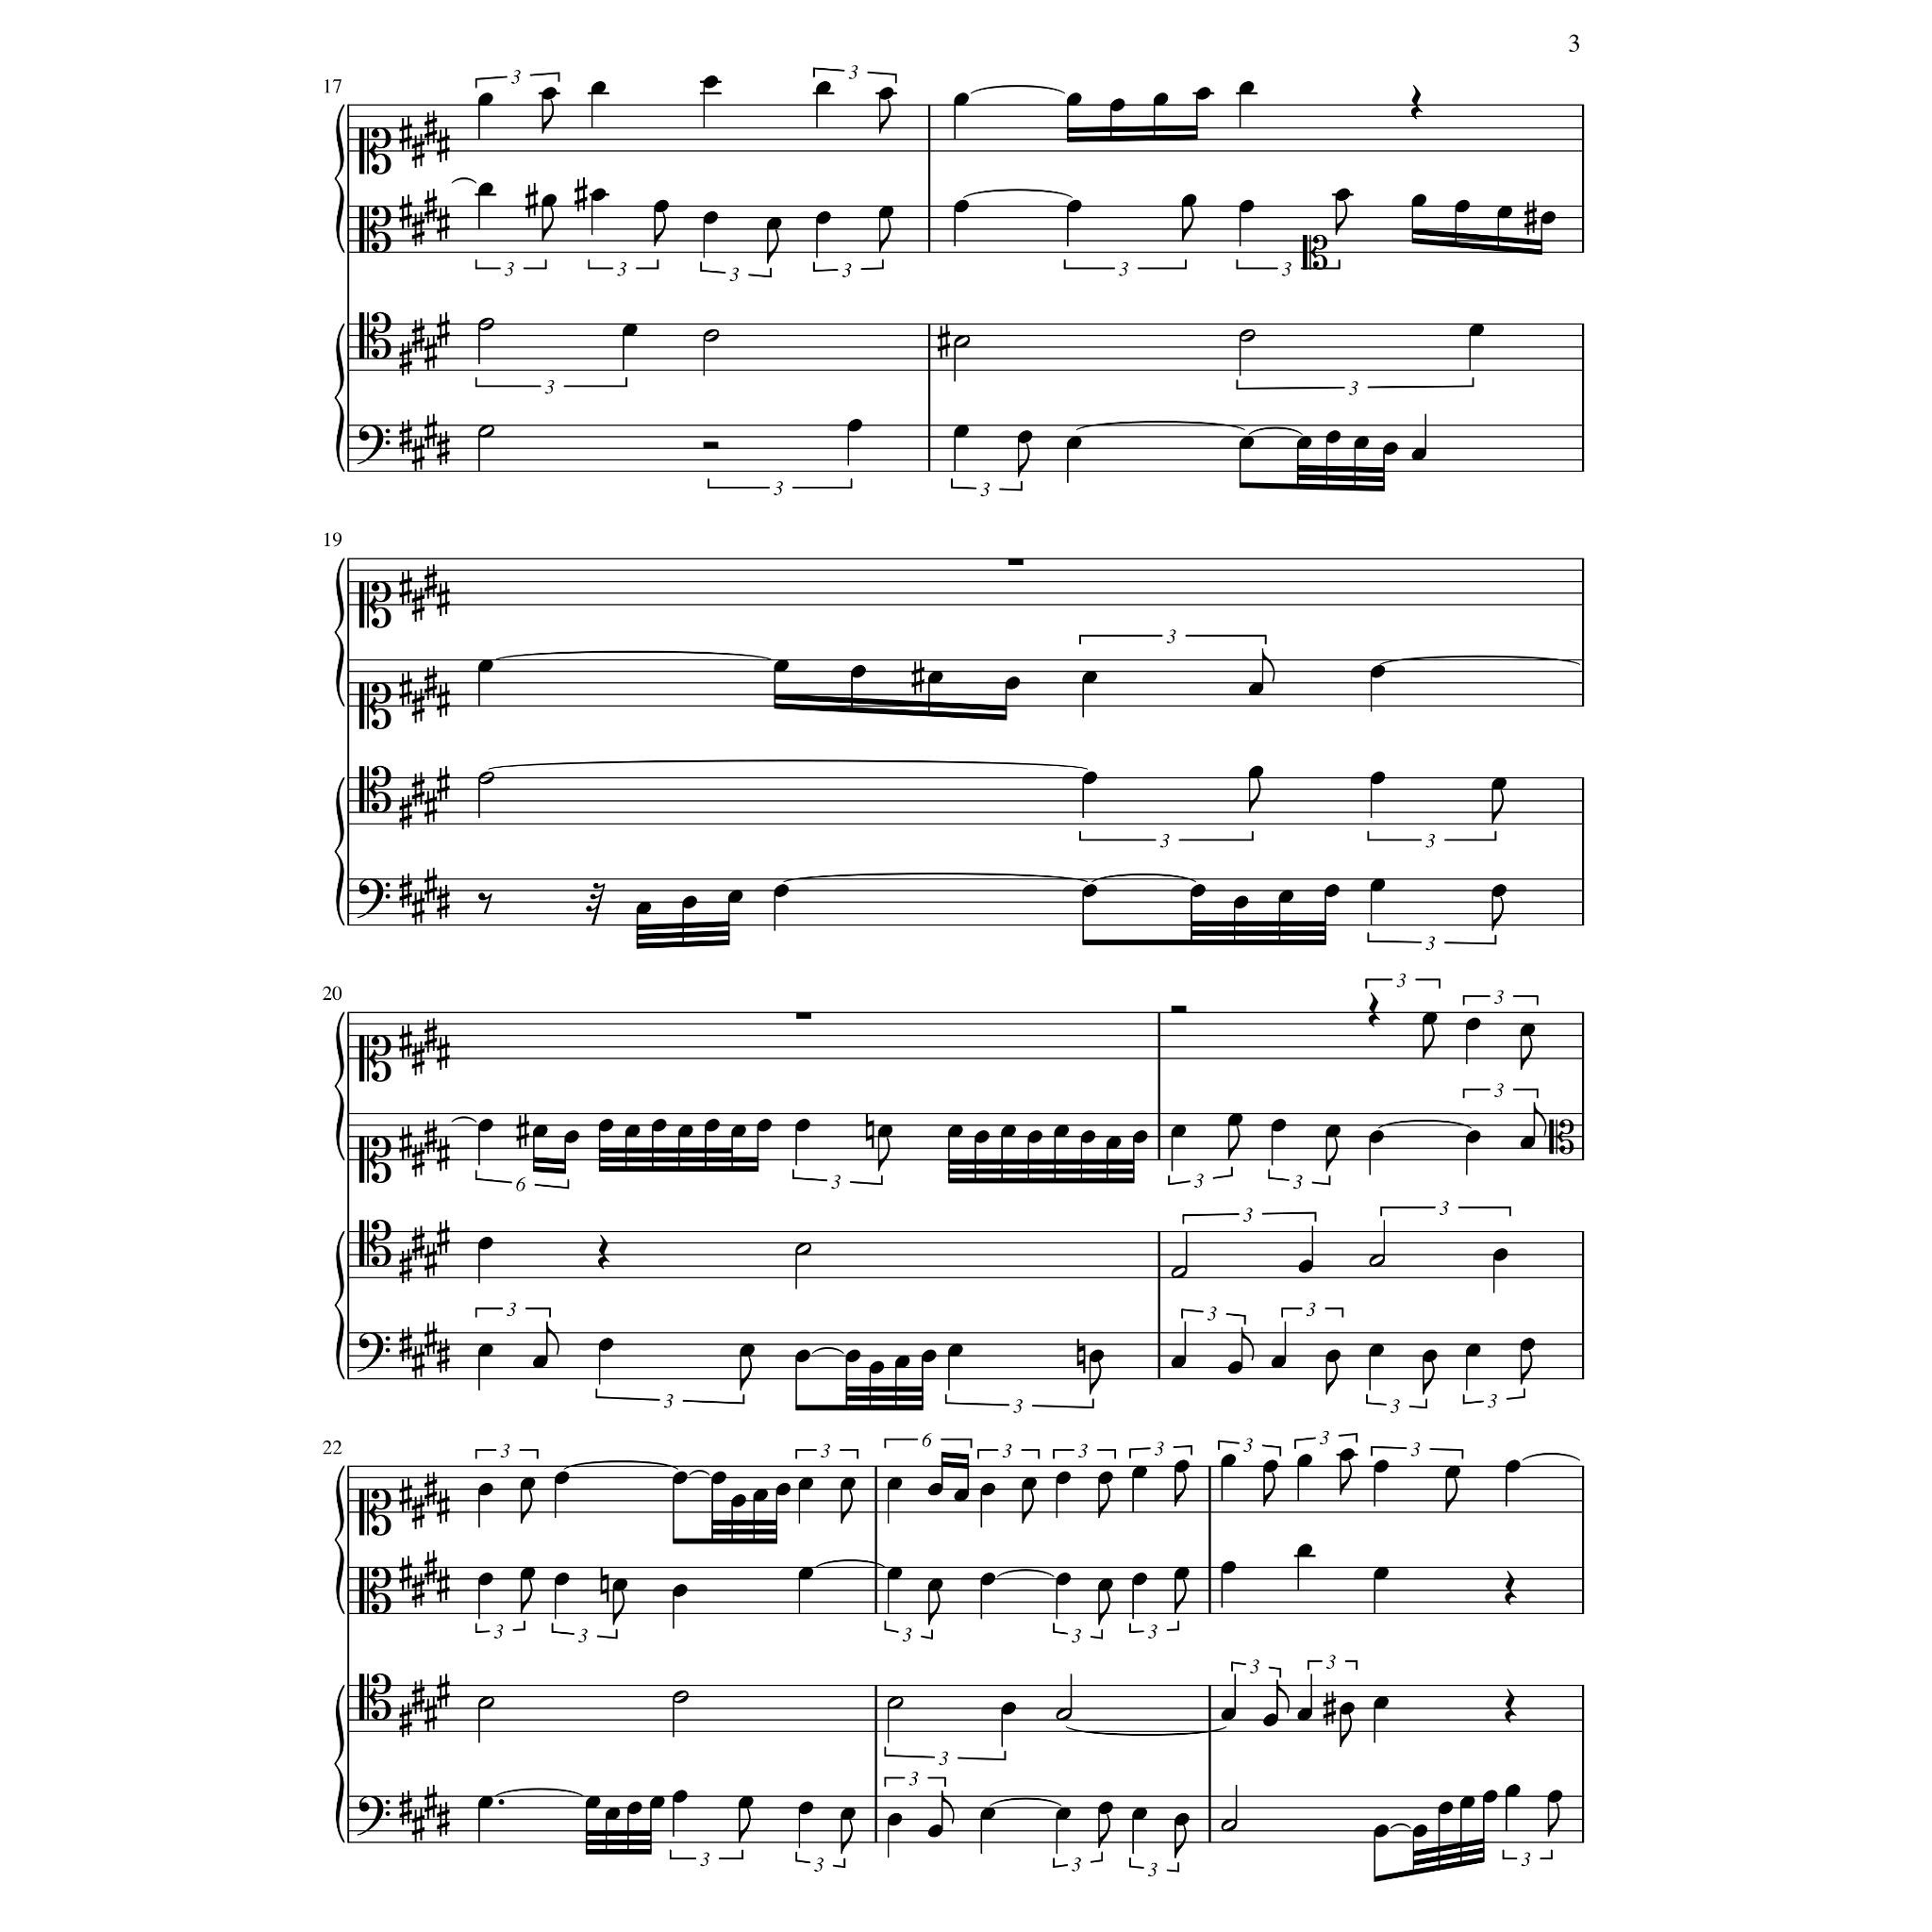brace: (333, 1684, 345, 1844), (334, 777, 345, 927), (334, 1465, 345, 1615), (334, 324, 345, 472), (334, 104, 345, 253), (334, 559, 345, 708), (334, 1231, 345, 1380), (334, 1012, 345, 1161)
fClef: (357, 425, 391, 465), (357, 879, 391, 920), (357, 1332, 391, 1373), (357, 1796, 391, 1836)
flag8thDown: (1017, 442, 1030, 478), (1491, 897, 1504, 932), (1228, 1125, 1240, 1161), (1325, 1138, 1338, 1173), (1520, 1035, 1532, 1070), (878, 1138, 890, 1173), (740, 1355, 752, 1391), (1339, 1713, 1352, 1748), (1263, 1472, 1276, 1507), (1099, 1591, 1111, 1626), (1099, 1813, 1111, 1849), (1099, 1483, 1111, 1518), (1175, 1824, 1187, 1859), (1175, 1472, 1187, 1507), (1175, 1578, 1187, 1614), (612, 1591, 625, 1626), (520, 1578, 533, 1614), (929, 1591, 941, 1626), (1336, 202, 1348, 235), (1182, 207, 1194, 241), (541, 101, 554, 134), (541, 207, 554, 241), (655, 212, 667, 246), (879, 219, 892, 253), (879, 101, 892, 134), (766, 230, 778, 264), (1249, 778, 1261, 812), (1491, 791, 1504, 824), (1325, 1361, 1338, 1394), (1090, 1361, 1102, 1394), (1422, 1361, 1435, 1394), (1422, 1024, 1435, 1058), (1520, 1352, 1532, 1385), (1339, 1461, 1352, 1495), (1445, 1479, 1458, 1513), (1548, 1803, 1560, 1836), (738, 1808, 750, 1842), (520, 1490, 533, 1523), (1023, 1490, 1035, 1523), (840, 1490, 853, 1523), (840, 1821, 853, 1854)
flag8thUp: (1261, 649, 1276, 683), (1276, 1679, 1290, 1713), (941, 1790, 955, 1824), (1534, 1102, 1546, 1138), (1242, 1327, 1254, 1361), (547, 1322, 559, 1355)
noteheadBlack: (1539, 211, 1557, 225), (1325, 430, 1341, 444), (1065, 200, 1081, 214), (1065, 92, 1081, 106), (1238, 81, 1254, 96), (1017, 430, 1033, 444), (1238, 200, 1254, 214), (1152, 92, 1168, 106), (1454, 200, 1470, 214), (1410, 448, 1426, 462), (1497, 205, 1513, 219), (591, 81, 607, 96), (653, 200, 669, 214), (478, 182, 494, 196), (478, 92, 494, 106), (702, 211, 718, 225), (954, 92, 970, 106), (954, 200, 970, 214), (878, 205, 893, 219), (816, 211, 832, 225), (816, 81, 832, 96), (766, 216, 782, 230), (1081, 771, 1097, 786), (1277, 890, 1293, 904), (1369, 878, 1385, 892), (1369, 771, 1385, 786), (1491, 777, 1507, 791), (478, 658, 494, 672), (1081, 671, 1097, 685), (773, 658, 789, 672), (927, 671, 943, 685), (1005, 676, 1021, 690), (727, 890, 743, 904), (1270, 1118, 1286, 1132), (1226, 1361, 1242, 1375), (1226, 1113, 1242, 1127), (1368, 1343, 1384, 1357), (1465, 1343, 1481, 1357), (1465, 1017, 1481, 1031), (1422, 1012, 1438, 1026), (1520, 1338, 1536, 1352), (1493, 1247, 1509, 1261), (598, 1338, 614, 1352), (598, 1118, 614, 1132), (704, 1118, 720, 1132), (651, 1118, 667, 1132), (478, 1343, 494, 1357), (478, 1118, 494, 1132), (948, 1343, 964, 1357), (755, 1118, 771, 1132), (794, 1118, 810, 1132), (869, 1361, 885, 1375), (740, 1343, 755, 1357), (1297, 1707, 1313, 1721), (1339, 1447, 1355, 1461), (1263, 1713, 1279, 1727), (1297, 1543, 1313, 1557), (1132, 1806, 1148, 1821), (1097, 1578, 1113, 1592), (1221, 1560, 1237, 1575), (1221, 1707, 1237, 1721), (1460, 1796, 1476, 1810), (1412, 1824, 1428, 1838), (1546, 1789, 1562, 1803), (1481, 1789, 1497, 1803), (1373, 1824, 1389, 1838), (1504, 1783, 1520, 1798), (612, 1578, 628, 1592), (649, 1796, 665, 1810), (584, 1796, 600, 1810), (605, 1806, 621, 1821), (738, 1796, 754, 1810), (672, 1583, 688, 1598), (672, 1789, 688, 1803), (520, 1477, 536, 1491), (478, 1483, 494, 1497), (478, 1796, 494, 1810), (927, 1483, 943, 1497), (954, 1488, 970, 1502), (980, 1483, 996, 1497), (980, 1806, 996, 1821), (927, 1578, 943, 1592), (927, 1824, 943, 1838), (798, 1477, 814, 1491), (752, 1488, 768, 1502), (775, 1483, 791, 1497), (1054, 1806, 1070, 1821), (886, 1477, 902, 1491), (1021, 1477, 1037, 1491), (840, 1806, 856, 1821), (840, 1477, 856, 1491), (1169, 1355, 1187, 1368), (1169, 1125, 1187, 1138), (531, 1355, 548, 1368), (531, 1125, 548, 1138), (1000, 1125, 1017, 1138), (844, 1350, 862, 1362), (1000, 1702, 1017, 1714), (1384, 442, 1398, 456), (1295, 437, 1311, 449), (1238, 437, 1254, 449), (1353, 437, 1369, 449), (1334, 189, 1350, 202), (1109, 99, 1125, 111), (1065, 437, 1081, 449), (1194, 88, 1210, 101), (1180, 195, 1196, 207), (1410, 195, 1426, 207), (1468, 324, 1484, 336), (591, 189, 607, 202), (541, 195, 557, 207), (541, 88, 557, 101), (702, 76, 718, 88), (623, 324, 639, 336), (954, 425, 970, 437), (878, 88, 893, 101), (847, 419, 863, 432), (1323, 885, 1339, 897), (1369, 665, 1385, 678), (1081, 885, 1097, 897), (1191, 885, 1207, 897), (1233, 897, 1249, 909), (1247, 683, 1263, 695), (1247, 766, 1263, 778), (1491, 885, 1507, 897), (773, 885, 789, 897), (849, 665, 865, 678), (635, 902, 651, 915), (681, 897, 697, 909), (1270, 1355, 1286, 1368), (1368, 1131, 1384, 1143), (1325, 1350, 1341, 1362), (1325, 1125, 1341, 1138), (1297, 1260, 1313, 1272), (1132, 1131, 1148, 1143), (1106, 1136, 1122, 1148), (1088, 1350, 1104, 1362), (1465, 1131, 1481, 1143), (1422, 1350, 1438, 1362), (1520, 1136, 1536, 1148), (1520, 1024, 1536, 1037), (564, 1131, 580, 1143), (731, 1125, 747, 1138), (678, 1125, 694, 1138), (625, 1125, 640, 1138), (478, 1237, 494, 1249), (948, 1125, 964, 1138), (920, 1350, 936, 1362), (895, 1355, 911, 1368), (878, 1125, 893, 1138), (1079, 1131, 1095, 1143), (1053, 1125, 1069, 1138), (1026, 1131, 1042, 1143), (975, 1131, 991, 1143), (794, 1350, 810, 1362), (1373, 1460, 1389, 1472), (1373, 1568, 1389, 1580), (1373, 1697, 1389, 1709), (1339, 1702, 1355, 1714), (1263, 1460, 1279, 1472), (1297, 1454, 1313, 1467), (1132, 1467, 1148, 1479), (1132, 1573, 1148, 1585), (1097, 1472, 1113, 1484), (1097, 1801, 1113, 1813), (1221, 1454, 1237, 1467), (1173, 1460, 1189, 1472), (1173, 1568, 1189, 1580), (1173, 1813, 1189, 1826), (1445, 1467, 1461, 1479), (1437, 1801, 1453, 1813), (1504, 1460, 1520, 1472), (626, 1801, 642, 1813), (672, 1472, 688, 1484), (711, 1472, 727, 1484), (731, 1495, 747, 1507), (520, 1568, 536, 1580), (554, 1472, 570, 1484), (554, 1573, 570, 1585), (478, 1573, 494, 1585), (980, 1573, 996, 1585), (798, 1568, 814, 1580), (798, 1801, 814, 1813), (1054, 1573, 1070, 1585), (1054, 1472, 1070, 1484), (886, 1813, 902, 1826), (886, 1568, 902, 1580)
noteheadHalf: (1238, 329, 1256, 343), (702, 329, 720, 343), (794, 1242, 812, 1256), (1054, 1707, 1072, 1721), (954, 334, 970, 349), (478, 771, 494, 786), (1171, 1265, 1187, 1279), (1368, 1254, 1385, 1267), (1221, 1819, 1238, 1831), (886, 1697, 904, 1709), (478, 425, 494, 437), (478, 318, 494, 331), (672, 1691, 688, 1704), (478, 1697, 494, 1709)
rest8th: (478, 892, 492, 915)
restHalf: (1169, 1005, 1187, 1014), (702, 442, 718, 449)
restQuarter: (598, 1233, 610, 1270), (1504, 1569, 1516, 1606), (1410, 85, 1422, 120), (1368, 993, 1380, 1028), (1504, 1688, 1516, 1723)
restWhole: (1007, 559, 1023, 566), (796, 1012, 812, 1019)
